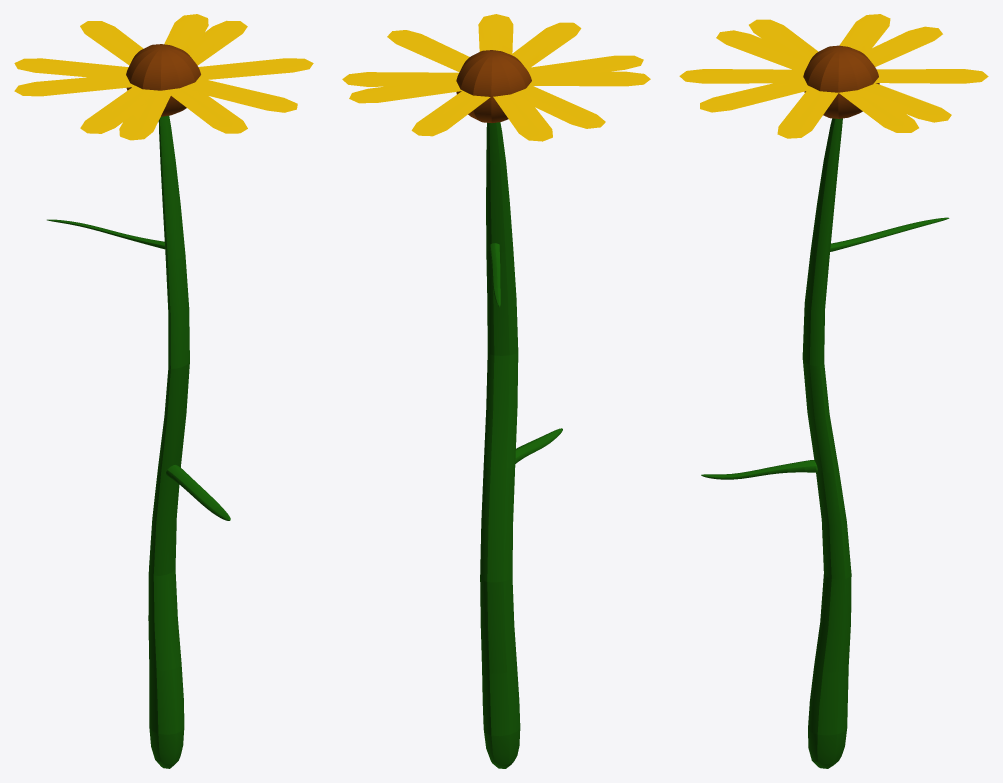
The model's file is BES Dying SDM New 2.fbx.
3 renders of one model, left to right at view 1: azimuth 30°, elevation 25°; view 2: azimuth 150°, elevation 25°; view 3: azimuth 270°, elevation 25°, orthographic.
Parts seen in each view (by area): view 1: Cylinder.001, Sphere, Plane.004, Plane.016, Plane.015, Plane.011, Plane.006, Plane.010, Plane.008, Plane.005, Plane.017, Plane.009; view 2: Cylinder.001, Sphere, Plane.008, Plane.016, Plane.006, Plane.009, Plane.005, Plane.010, Plane.004, Plane.011, Plane.017, Plane.015; view 3: Cylinder.001, Sphere, Plane.004, Plane.011, Plane.015, Plane.009, Plane.005, Plane.008, Plane.016, Plane.006, Plane.017, Plane.010.
Part boxes in pixels (x1=…): Cylinder.001: x1=47, y1=115, x2=230, y2=768; Sphere: x1=126, y1=44, x2=200, y2=116; Plane.004: x1=165, y1=84, x2=247, y2=133; Plane.016: x1=80, y1=86, x2=163, y2=133; Plane.015: x1=179, y1=78, x2=297, y2=112; Plane.011: x1=196, y1=58, x2=313, y2=80; Plane.006: x1=14, y1=58, x2=128, y2=80; Plane.010: x1=14, y1=75, x2=136, y2=96; Plane.008: x1=119, y1=89, x2=172, y2=140; Plane.005: x1=80, y1=21, x2=143, y2=65; Plane.017: x1=188, y1=20, x2=247, y2=65; Plane.009: x1=164, y1=14, x2=208, y2=56; Cylinder.001: x1=480, y1=122, x2=562, y2=768; Sphere: x1=456, y1=50, x2=531, y2=122; Plane.008: x1=527, y1=55, x2=643, y2=80; Plane.016: x1=529, y1=71, x2=650, y2=86; Plane.006: x1=493, y1=90, x2=552, y2=141; Plane.009: x1=349, y1=77, x2=462, y2=103; Plane.005: x1=411, y1=90, x2=490, y2=136; Plane.010: x1=522, y1=84, x2=605, y2=128; Plane.004: x1=511, y1=22, x2=581, y2=69; Plane.011: x1=387, y1=30, x2=469, y2=72; Plane.017: x1=342, y1=72, x2=458, y2=86; Plane.015: x1=478, y1=14, x2=513, y2=54; Cylinder.001: x1=701, y1=118, x2=949, y2=768; Sphere: x1=803, y1=45, x2=879, y2=118; Plane.004: x1=679, y1=69, x2=806, y2=83; Plane.011: x1=777, y1=87, x2=838, y2=138; Plane.015: x1=700, y1=77, x2=814, y2=112; Plane.009: x1=850, y1=83, x2=951, y2=122; Plane.005: x1=874, y1=69, x2=988, y2=83; Plane.008: x1=716, y1=30, x2=809, y2=72; Plane.016: x1=749, y1=19, x2=818, y2=68; Plane.006: x1=862, y1=26, x2=942, y2=66; Plane.017: x1=839, y1=91, x2=918, y2=132; Plane.010: x1=839, y1=14, x2=890, y2=52.
Bounding box in the file's own units: 161 × 435 × 169.
